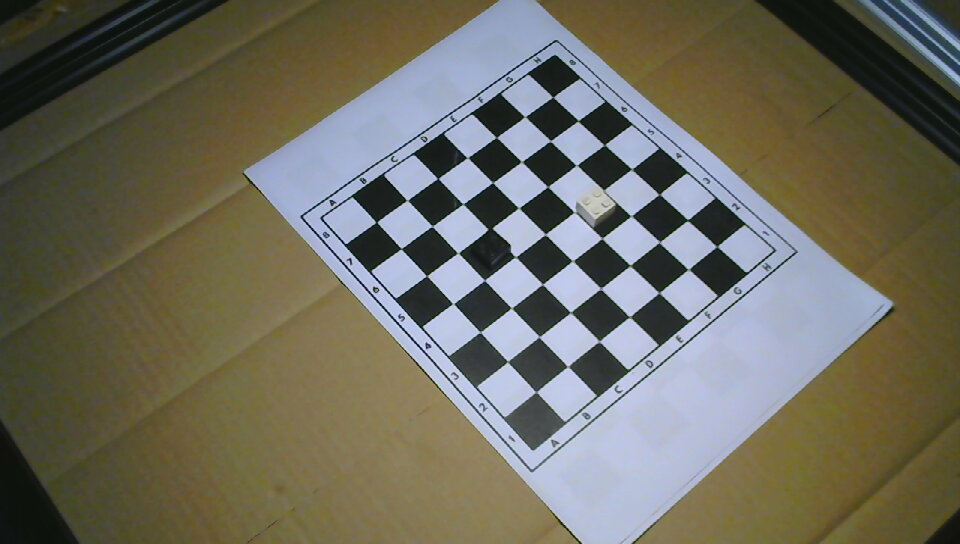bp: (471, 229, 513, 269)
wp: (575, 187, 617, 229)
